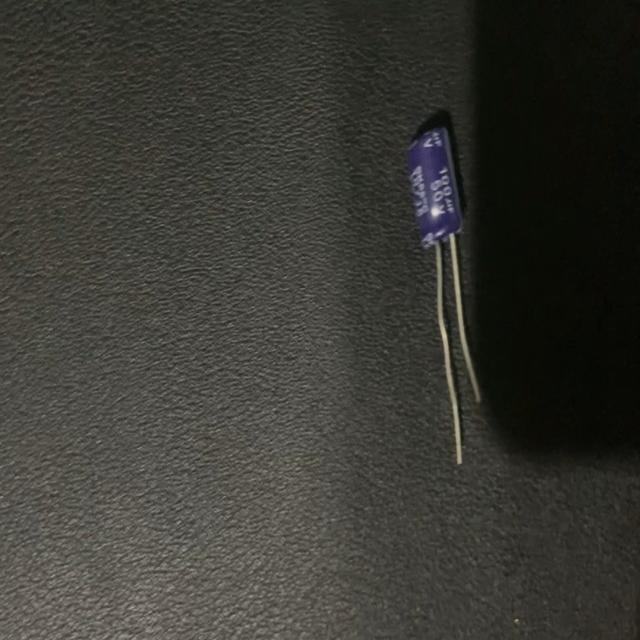capacitor: (406, 124, 480, 465)
